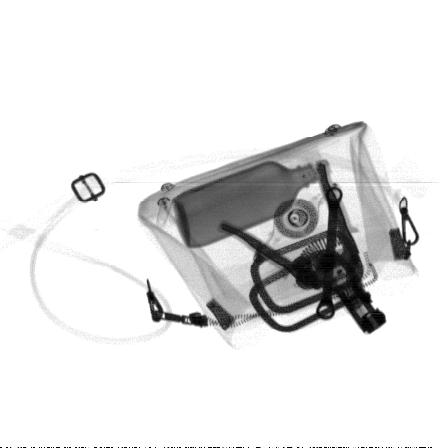Pliers: (215, 159, 387, 333)
Wrench: (315, 185, 344, 319)
